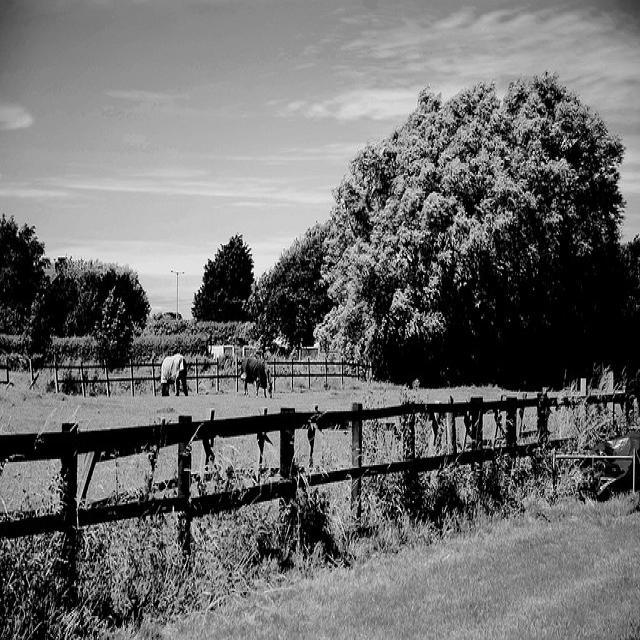cow: (238, 352, 271, 400)
